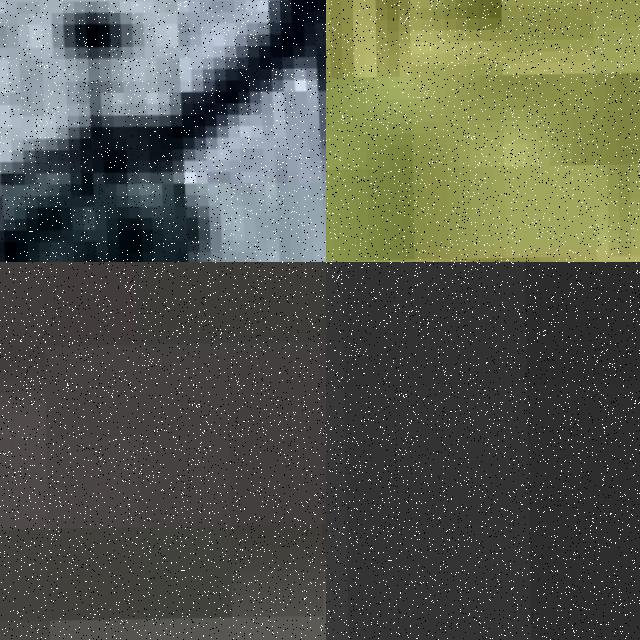drone: (0, 0, 326, 262)
